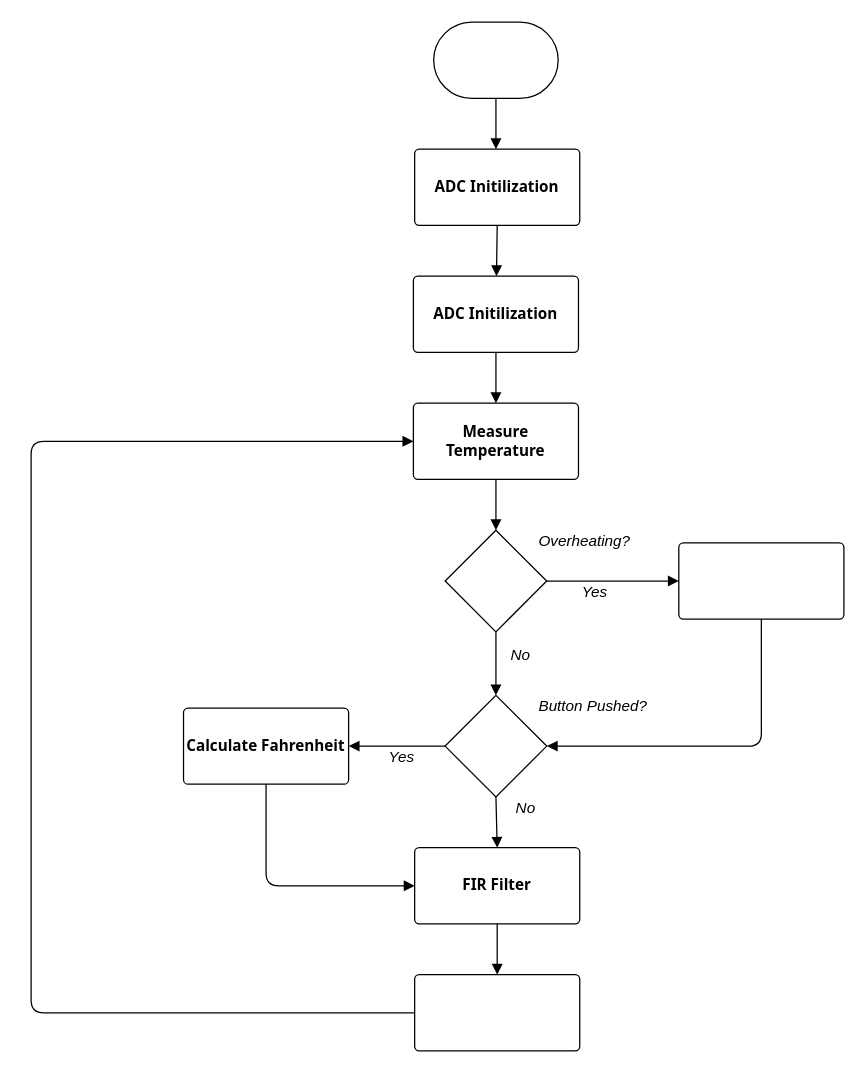
This 866x1073 diagram has some shape labels left out. Here are the shapes that lost their labels. From the top down, the box of each, then its label:
(432, 21, 558, 98): Start
(678, 542, 844, 619): LED Dance
(413, 973, 580, 1051): LED Display
